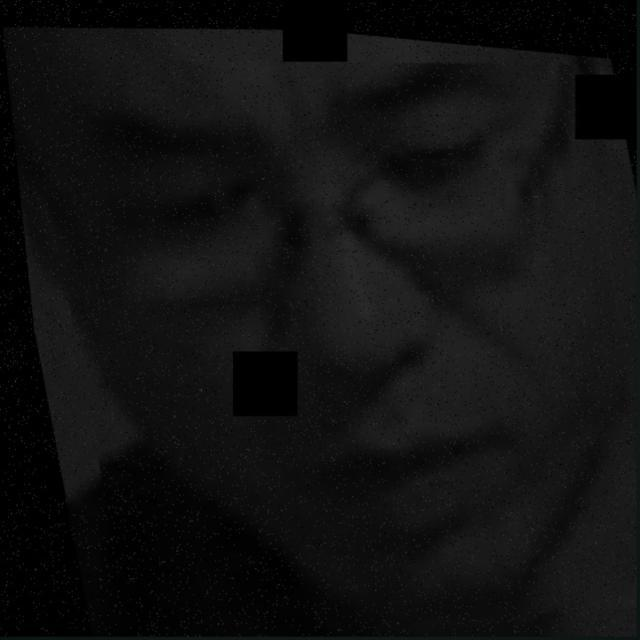Sad: (50, 50, 640, 621)
